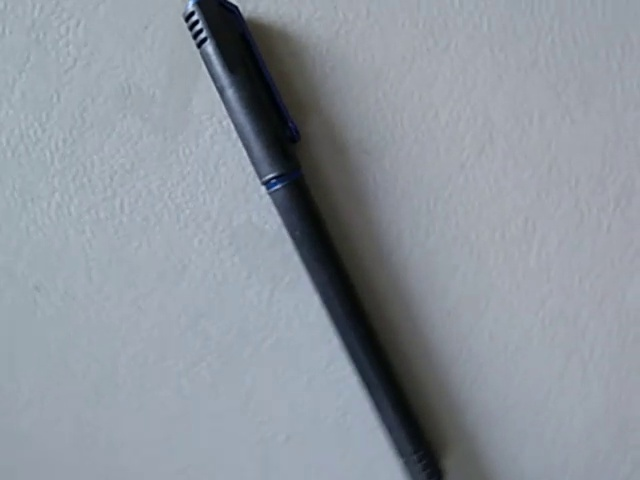Pen: (149, 1, 521, 476)
